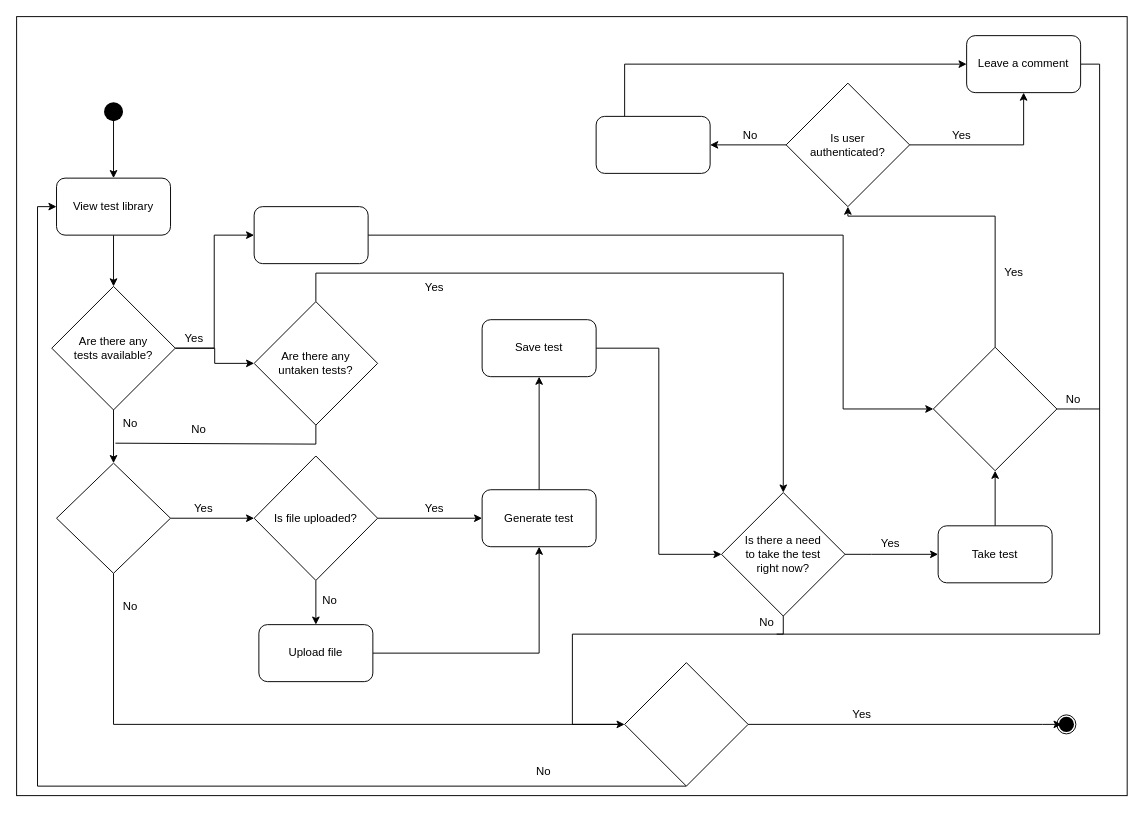
The diagram is 1144 pixels wide and 817 high, and some of its shapes have lost their labels. The shapes that lost their labels are listed below. From the top down, each one's box as (x1, y1, x2, y2) in pixels, then its label:
(595, 115, 710, 173): Authenticate user
(253, 206, 368, 264): View specific test results
(932, 346, 1057, 471): Is there a need to leave a comment?
(56, 462, 171, 573): Is there a need to generate a test?
(624, 662, 748, 786): Want to exit?
